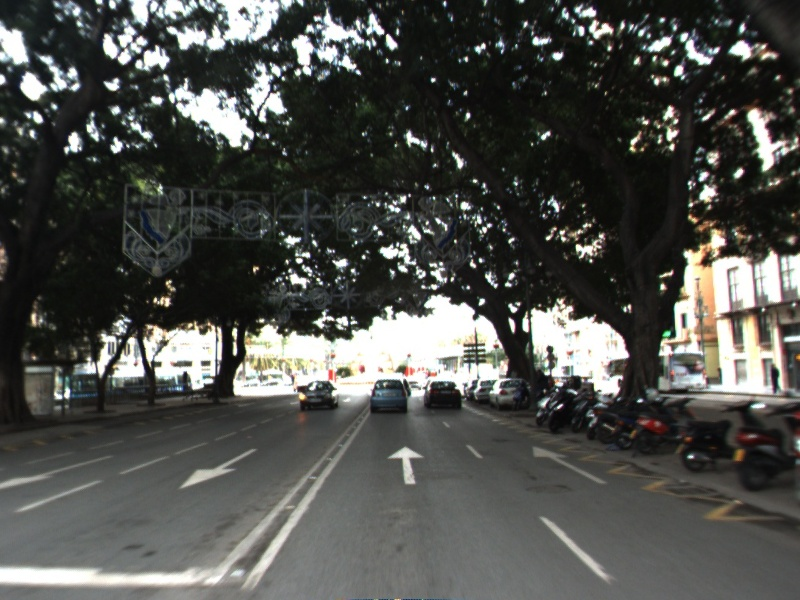STRAIGHT: (531, 444, 611, 486), (385, 444, 427, 486)
